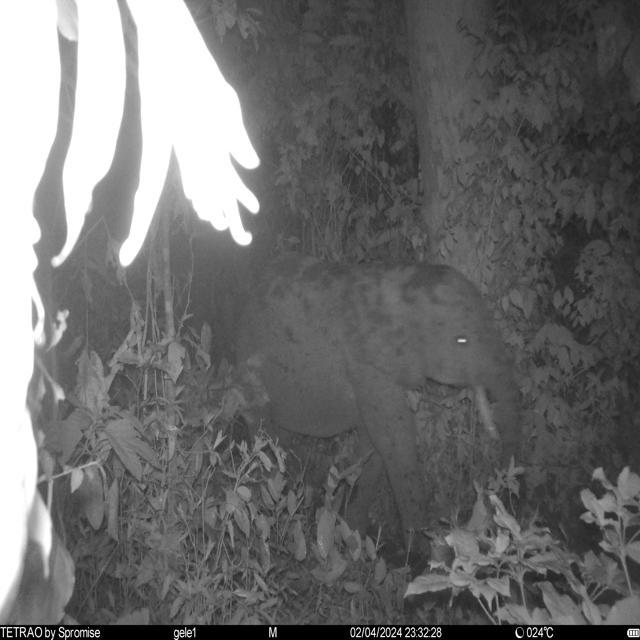calf: (233, 252, 524, 554)
tusk: (473, 384, 502, 444)
